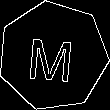M_N: (28, 29, 79, 83)
